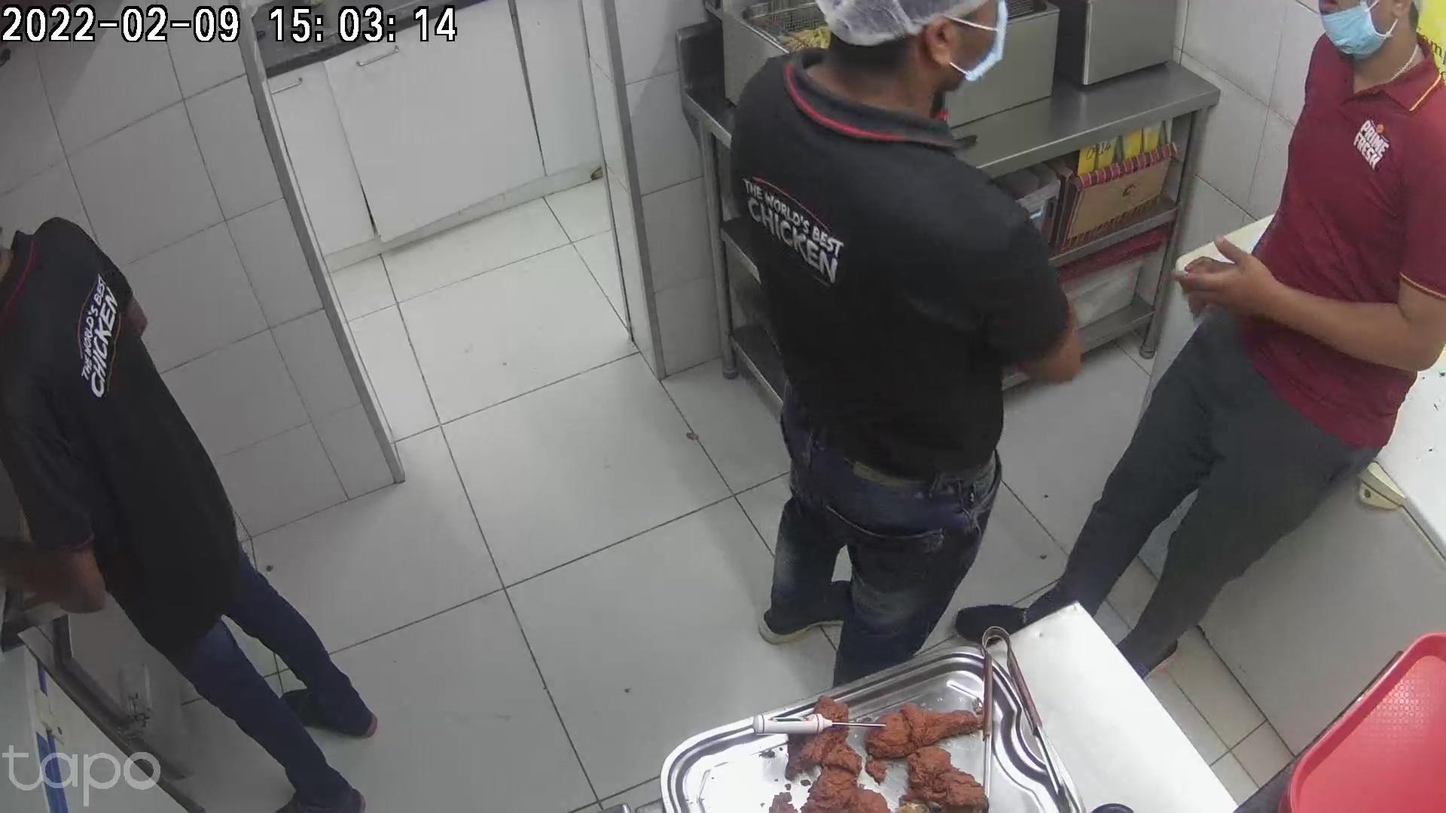no_gloves: (551, 150, 634, 325)
